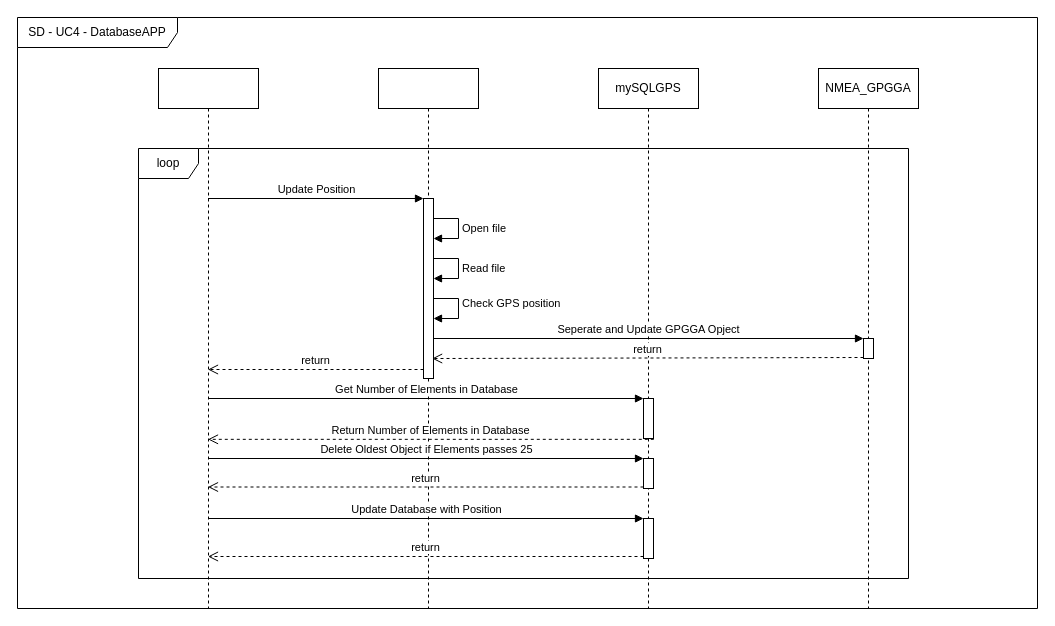
The diagram is 1055 pixels wide and 626 high, and some of its shapes have lost their labels. Each missing label, with the box of its shape:
DatabaseAPP: (158, 68, 258, 608)
getGPS: (378, 68, 478, 608)
